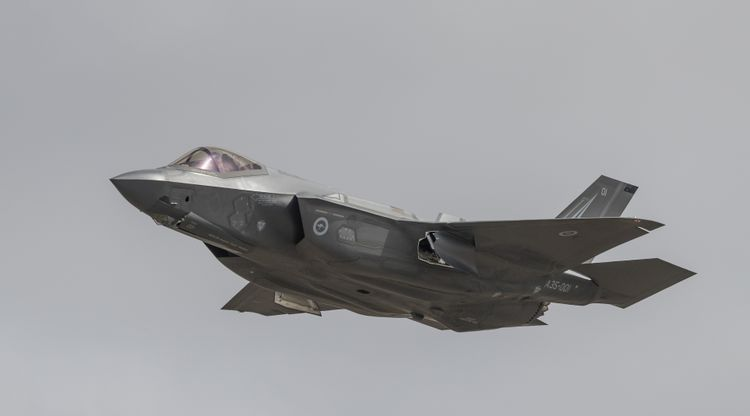F-35 Lightning: (83, 100, 707, 371)
